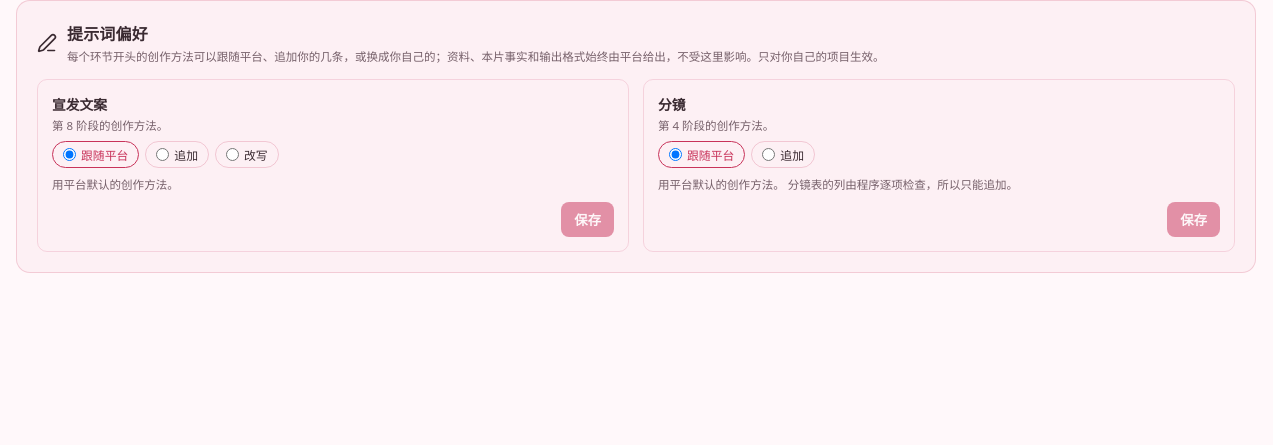
Test case: PromptPreferencesPane › shows what a rewrite replaces and what stays, and saves the choice
Click the radio button labelled "改写". click: coordinates (232, 154)
box: [226,148,239,161]
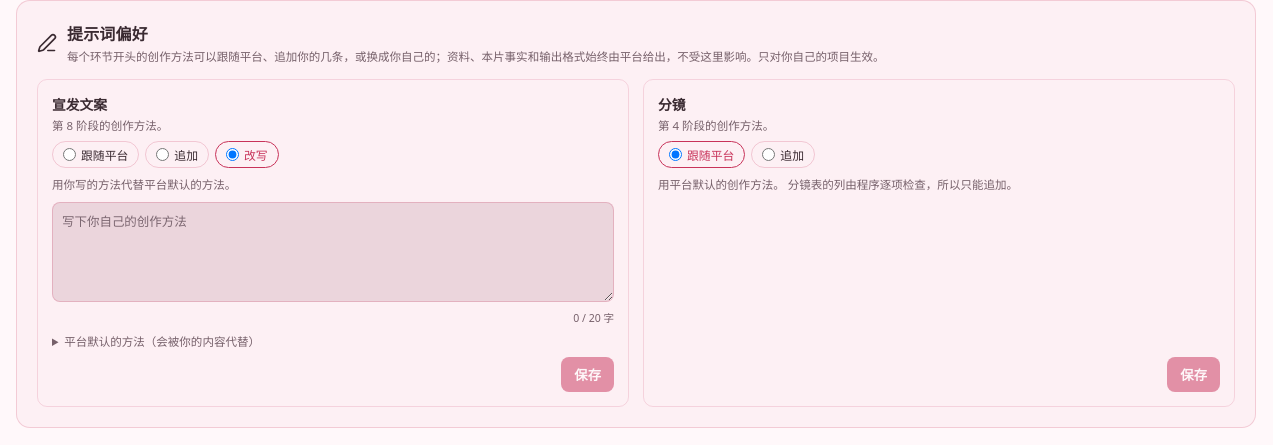
Expected: the button "保存" below "0 / 20 字" is disabled, [561,357,614,392]
Type " 标题要冷，不喊口号 " into the text box. click: coordinates (333, 252)
box: [52,202,614,302]
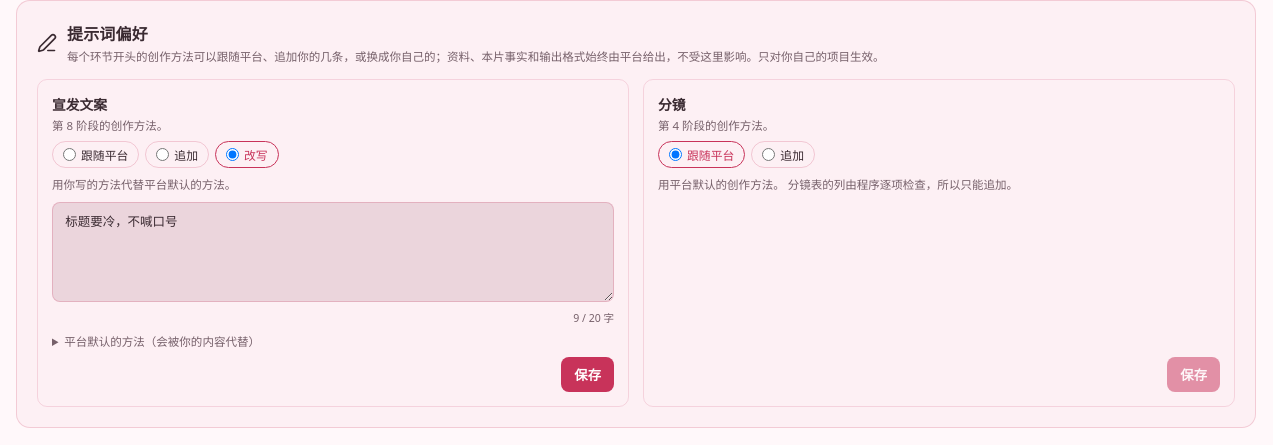
Expected: the text "9 / 20 字" is shown, [573,310,614,325]
Expected: the button "保存" below "9 / 20 字" is enabled
Click the button "保存" below "9 / 20 字". click: coordinates (588, 375)
box: [561,357,614,392]
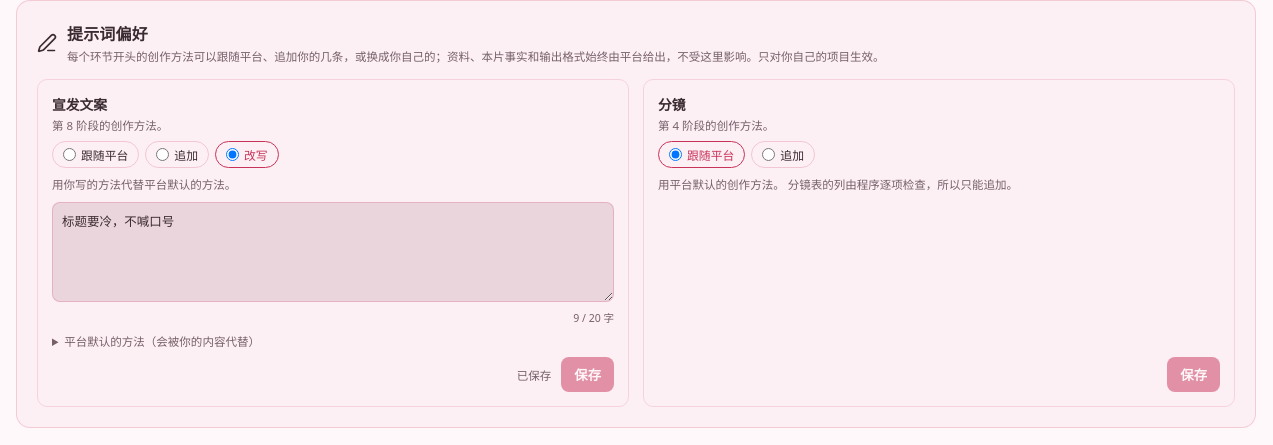
Expected: the text "已保存" is shown, [517,367,551,383]
Expected: the button "保存" next to "已保存" is disabled, [561,357,614,392]
